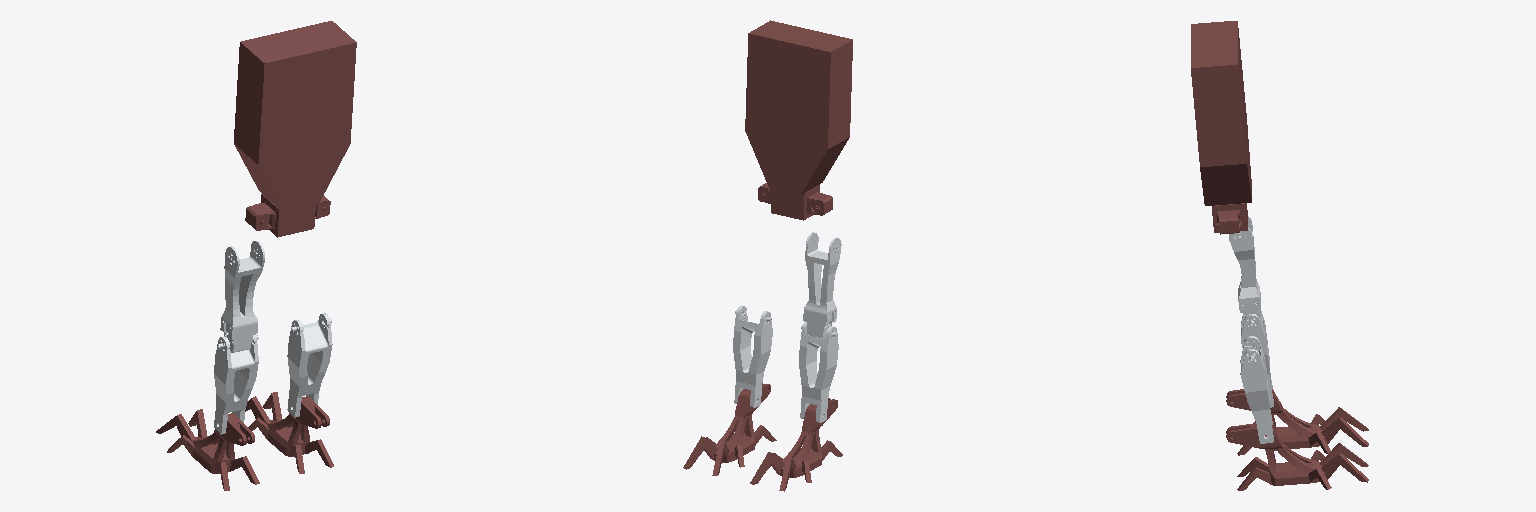
robot.urdf — griebot0502:
<?xml version="1.0" encoding="utf-8"?>
<!-- This URDF was automatically created by SolidWorks to URDF Exporter! Originally created by [author] ([email redacted]) 
     Commit Version: 1.6.0-4-g7f85cfe  Build Version: 1.6.7995.38578
     For more information, please see http://wiki.ros.org/sw_urdf_exporter -->
<robot
  name="griebot0502">
  <link
    name="base_link">
    <inertial>
      <origin
        xyz="0.0012171 -0.0073486 0.087541"
        rpy="0 0 0" />
      <mass
        value="2" />
      <inertia
        ixx="0.012022"
        ixy="9.4559E-06"
        ixz="-9.2257E-05"
        iyy="0.014905"
        iyz="0.00080386"
        izz="0.005398" />
    </inertial>
    <visual>
      <origin
        xyz="0 0 0"
        rpy="0 0 0" />
      <geometry>
        <mesh
          filename="package://griebot0502/meshes/base_link.STL" />
      </geometry>
      <material
        name="">
        <color
          rgba="0.53725 0.34902 0.33725 1" />
      </material>
    </visual>
    <collision>
      <origin
        xyz="0 0 0"
        rpy="0 0 0" />
      <geometry>
        <mesh
          filename="package://griebot0502/meshes/base_link.STL" />
      </geometry>
    </collision>
  </link>
  <link
    name="Rhip">
    <inertial>
      <origin
        xyz="-0.0015662 -0.0035452 0.018069"
        rpy="0 0 0" />
      <mass
        value="0.79106" />
      <inertia
        ixx="0.00058107"
        ixy="3.1255E-05"
        ixz="-1.0617E-05"
        iyy="0.00052094"
        iyz="0.00013177"
        izz="0.00040317" />
    </inertial>
    <visual>
      <origin
        xyz="0 0 0"
        rpy="0 0 0" />
      <geometry>
        <mesh
          filename="package://griebot0502/meshes/Rhip.STL" />
      </geometry>
      <material
        name="">
        <color
          rgba="0.89412 0.91373 0.92941 1" />
      </material>
    </visual>
    <collision>
      <origin
        xyz="0 0 0"
        rpy="0 0 0" />
      <geometry>
        <mesh
          filename="package://griebot0502/meshes/Rhip.STL" />
      </geometry>
    </collision>
  </link>
  <joint
    name="Rhipjoint"
    type="revolute">
    <origin
      xyz="0.058289 0.013792 -0.050716"
      rpy="1.6546 0.013805 0.0011592" />
    <parent
      link="base_link" />
    <child
      link="Rhip" />
    <axis
      xyz="0 0 -1" />
    <limit
      lower="-3"
      upper="3"
      effort="110"
      velocity="2" />
  </joint>
  <link
    name="Rthigh">
    <inertial>
      <origin
        xyz="-0.00030237 -0.062783 -0.0017526"
        rpy="0 0 0" />
      <mass
        value="0.71234" />
      <inertia
        ixx="0.00098396"
        ixy="-4.2512E-06"
        ixz="-3.6167E-07"
        iyy="0.00018103"
        iyz="1.0499E-05"
        izz="0.001062" />
    </inertial>
    <visual>
      <origin
        xyz="0 0 0"
        rpy="0 0 0" />
      <geometry>
        <mesh
          filename="package://griebot0502/meshes/Rthigh.STL" />
      </geometry>
      <material
        name="">
        <color
          rgba="0.89412 0.91373 0.92941 1" />
      </material>
    </visual>
    <collision>
      <origin
        xyz="0 0 0"
        rpy="0 0 0" />
      <geometry>
        <mesh
          filename="package://griebot0502/meshes/Rthigh.STL" />
      </geometry>
    </collision>
  </link>
  <joint
    name="Rthighjoint"
    type="revolute">
    <origin
      xyz="-0.001 -0.035 -0.0005"
      rpy="0.037192 0 0" />
    <parent
      link="Rhip" />
    <child
      link="Rthigh" />
    <axis
      xyz="-1 0 0" />
    <limit
      lower="-3"
      upper="3"
      effort="110"
      velocity="2" />
  </joint>
  <link
    name="Rshank">
    <inertial>
      <origin
        xyz="3.2595E-10 -0.063425 0.0012181"
        rpy="0 0 0" />
      <mass
        value="0.97116" />
      <inertia
        ixx="0.0014338"
        ixy="7.7522E-12"
        ixz="2.6766E-11"
        iyy="0.00032647"
        iyz="-1.2141E-05"
        izz="0.0016081" />
    </inertial>
    <visual>
      <origin
        xyz="0 0 0"
        rpy="0 0 0" />
      <geometry>
        <mesh
          filename="package://griebot0502/meshes/Rshank.STL" />
      </geometry>
      <material
        name="">
        <color
          rgba="0.89412 0.91373 0.92941 1" />
      </material>
    </visual>
    <collision>
      <origin
        xyz="0 0 0"
        rpy="0 0 0" />
      <geometry>
        <mesh
          filename="package://griebot0502/meshes/Rshank.STL" />
      </geometry>
    </collision>
  </link>
  <joint
    name="Rshankjoint"
    type="revolute">
    <origin
      xyz="0.0019 -0.14107 -0.0005"
      rpy="0.034967 0 0" />
    <parent
      link="Rthigh" />
    <child
      link="Rshank" />
    <axis
      xyz="-1 0 0" />
    <limit
      lower="-3"
      upper="3"
      effort="110"
      velocity="2" />
  </joint>
  <link
    name="Rfeet">
    <inertial>
      <origin
        xyz="-5.2389E-05 -0.051491 0.032203"
        rpy="0 0 0" />
      <mass
        value="0.8" />
      <inertia
        ixx="0.0031769"
        ixy="3.3687E-06"
        ixz="-2.1066E-06"
        iyy="0.0025047"
        iyz="0.00075503"
        izz="0.0010865" />
    </inertial>
    <visual>
      <origin
        xyz="0 0 0"
        rpy="0 0 0" />
      <geometry>
        <mesh
          filename="package://griebot0502/meshes/Rfeet.STL" />
      </geometry>
      <material
        name="">
        <color
          rgba="0.53725 0.34902 0.33725 1" />
      </material>
    </visual>
    <collision>
      <origin
        xyz="0 0 0"
        rpy="0 0 0" />
      <geometry>
        <mesh
          filename="package://griebot0502/meshes/Rfeet.STL" />
      </geometry>
    </collision>
  </link>
  <joint
    name="Rfeetjoint"
    type="revolute">
    <origin
      xyz="0.001 -0.135 0"
      rpy="-3.0694 0 3.1416" />
    <parent
      link="Rshank" />
    <child
      link="Rfeet" />
    <axis
      xyz="-1 0 0" />
    <limit
      lower="-3"
      upper="3"
      effort="110"
      velocity="2" />
  </joint>
  <link
    name="Lhip">
    <inertial>
      <origin
        xyz="-0.0015118 -0.0035452 -0.018069"
        rpy="0 0 0" />
      <mass
        value="0.79106" />
      <inertia
        ixx="0.00058107"
        ixy="3.1255E-05"
        ixz="1.0617E-05"
        iyy="0.00052094"
        iyz="-0.00013177"
        izz="0.00040317" />
    </inertial>
    <visual>
      <origin
        xyz="0 0 0"
        rpy="0 0 0" />
      <geometry>
        <mesh
          filename="package://griebot0502/meshes/Lhip.STL" />
      </geometry>
      <material
        name="">
        <color
          rgba="0.89412 0.91373 0.92941 1" />
      </material>
    </visual>
    <collision>
      <origin
        xyz="0 0 0"
        rpy="0 0 0" />
      <geometry>
        <mesh
          filename="package://griebot0502/meshes/Lhip.STL" />
      </geometry>
    </collision>
  </link>
  <joint
    name="Lhipjoint"
    type="revolute">
    <origin
      xyz="-0.059699 0.014402 -0.049024"
      rpy="1.487 -0.013805 -3.1404" />
    <parent
      link="base_link" />
    <child
      link="Lhip" />
    <axis
      xyz="0 0 1" />
    <limit
      lower="-3"
      upper="3"
      effort="110"
      velocity="2" />
  </joint>
  <link
    name="Lthigh">
    <inertial>
      <origin
        xyz="-0.0003203 -0.062783 -0.0017283"
        rpy="0 0 0" />
      <mass
        value="0.71234" />
      <inertia
        ixx="0.00098396"
        ixy="-4.2572E-06"
        ixz="-3.6167E-07"
        iyy="0.00018103"
        iyz="1.0499E-05"
        izz="0.001062" />
    </inertial>
    <visual>
      <origin
        xyz="0 0 0"
        rpy="0 0 0" />
      <geometry>
        <mesh
          filename="package://griebot0502/meshes/Lthigh.STL" />
      </geometry>
      <material
        name="">
        <color
          rgba="0.89412 0.91373 0.92941 1" />
      </material>
    </visual>
    <collision>
      <origin
        xyz="0 0 0"
        rpy="0 0 0" />
      <geometry>
        <mesh
          filename="package://griebot0502/meshes/Lthigh.STL" />
      </geometry>
    </collision>
  </link>
  <joint
    name="Lthighjoint"
    type="revolute">
    <origin
      xyz="0.00025 -0.035 0.0005"
      rpy="-3.1044 0 -3.1416" />
    <parent
      link="Lhip" />
    <child
      link="Lthigh" />
    <axis
      xyz="-1 0 0" />
    <limit
      lower="-3"
      upper="3"
      effort="110"
      velocity="2" />
  </joint>
  <link
    name="Lshank">
    <inertial>
      <origin
        xyz="3.2595E-10 -0.063425 0.0012181"
        rpy="0 0 0" />
      <mass
        value="0.97116" />
      <inertia
        ixx="0.0014338"
        ixy="7.7522E-12"
        ixz="2.6766E-11"
        iyy="0.00032647"
        iyz="-1.2141E-05"
        izz="0.0016081" />
    </inertial>
    <visual>
      <origin
        xyz="0 0 0"
        rpy="0 0 0" />
      <geometry>
        <mesh
          filename="package://griebot0502/meshes/Lshank.STL" />
      </geometry>
      <material
        name="">
        <color
          rgba="0.89412 0.91373 0.92941 1" />
      </material>
    </visual>
    <collision>
      <origin
        xyz="0 0 0"
        rpy="0 0 0" />
      <geometry>
        <mesh
          filename="package://griebot0502/meshes/Lshank.STL" />
      </geometry>
    </collision>
  </link>
  <joint
    name="Lshankjoint"
    type="revolute">
    <origin
      xyz="-0.0004 -0.14107 0"
      rpy="0.034967 0 0" />
    <parent
      link="Lthigh" />
    <child
      link="Lshank" />
    <axis
      xyz="1 0 0" />
    <limit
      lower="-3"
      upper="3"
      effort="110"
      velocity="2" />
  </joint>
  <link
    name="Lfeet">
    <inertial>
      <origin
        xyz="-5.2389E-05 -0.051491 0.032203"
        rpy="0 0 0" />
      <mass
        value="0.8" />
      <inertia
        ixx="0.0031769"
        ixy="3.3687E-06"
        ixz="-2.1066E-06"
        iyy="0.0025047"
        iyz="0.00075503"
        izz="0.0010865" />
    </inertial>
    <visual>
      <origin
        xyz="0 0 0"
        rpy="0 0 0" />
      <geometry>
        <mesh
          filename="package://griebot0502/meshes/Lfeet.STL" />
      </geometry>
      <material
        name="">
        <color
          rgba="0.53725 0.34902 0.33725 1" />
      </material>
    </visual>
    <collision>
      <origin
        xyz="0 0 0"
        rpy="0 0 0" />
      <geometry>
        <mesh
          filename="package://griebot0502/meshes/Lfeet.STL" />
      </geometry>
    </collision>
  </link>
  <joint
    name="Lfeetjoint"
    type="revolute">
    <origin
      xyz="-0.001 -0.135 0"
      rpy="-3.0694 0 -3.1416" />
    <parent
      link="Lshank" />
    <child
      link="Lfeet" />
    <axis
      xyz="-1 0 0" />
    <limit
      lower="-3"
      upper="3"
      effort="110"
      velocity="2" />
  </joint>
</robot>

--- Render facts (derived) ---
Views: 3 orthographic renders of the robot side by side, from view 1: azimuth 30°, elevation 25°; view 2: azimuth 150°, elevation 25°; view 3: azimuth 270°, elevation 25°.
Model griebot0502 with 9 links and 8 joints (8 revolute), rooted at base_link, posed every joint at zero.
Links seen in each view (by area): view 1: base_link, Lfeet, Lthigh, Rfeet, Rshank, Lshank; view 2: base_link, Rshank, Lthigh, Lshank, Lfeet, Rfeet; view 3: base_link, Rfeet, Lfeet, Rshank, Lthigh, Lshank.
Link boxes in pixels (x1,y1,x2,y2): base_link: (234,21,356,237); Lfeet: (156,409,259,490); Lthigh: (220,241,264,352); Rfeet: (245,392,333,473); Rshank: (287,313,332,417); Lshank: (214,335,258,434); base_link: (745,20,852,220); Rshank: (733,305,772,407); Lthigh: (803,232,841,338); Lshank: (799,322,838,422); Lfeet: (750,398,842,491); Rfeet: (683,383,776,475); base_link: (1191,21,1251,234); Rfeet: (1226,423,1368,490); Lfeet: (1226,389,1368,455); Rshank: (1240,336,1273,443); Lthigh: (1229,216,1260,320); Lshank: (1241,311,1273,407).
Size in the robot's own frame: 0.2156 by 0.2641 by 0.6961 metres.
6 mesh visuals loaded from 9 distinct referenced files (6 binary STL); not drawn: 3 (reference not matched to a file when rendering).
